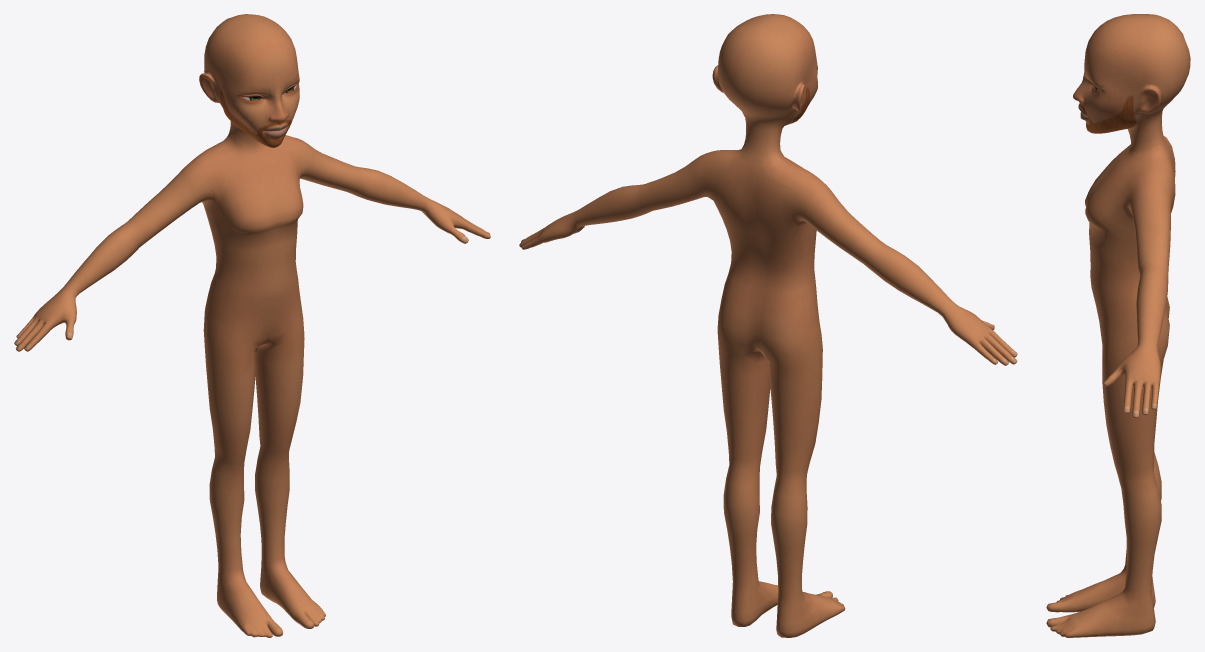
The model's file is frame_0054.glb.
The picture shows the model from 3 angles, left to right: view 1: azimuth 30°, elevation 25°; view 2: azimuth 150°, elevation 25°; view 3: azimuth 270°, elevation 25°; orthographic projection. The views are drawn at different scales.
Parts seen in each view (by area): view 1: frame_0054_head_geo; view 2: frame_0054_head_geo; view 3: frame_0054_head_geo.
Part boxes in pixels (x1,y1,x2,y2): frame_0054_head_geo: (14, 14, 490, 637); frame_0054_head_geo: (519, 14, 1017, 637); frame_0054_head_geo: (1046, 14, 1190, 637).
Size of the model in its own units: 1.28 by 1.5 by 0.3253.
3 materials, 3 textured.
